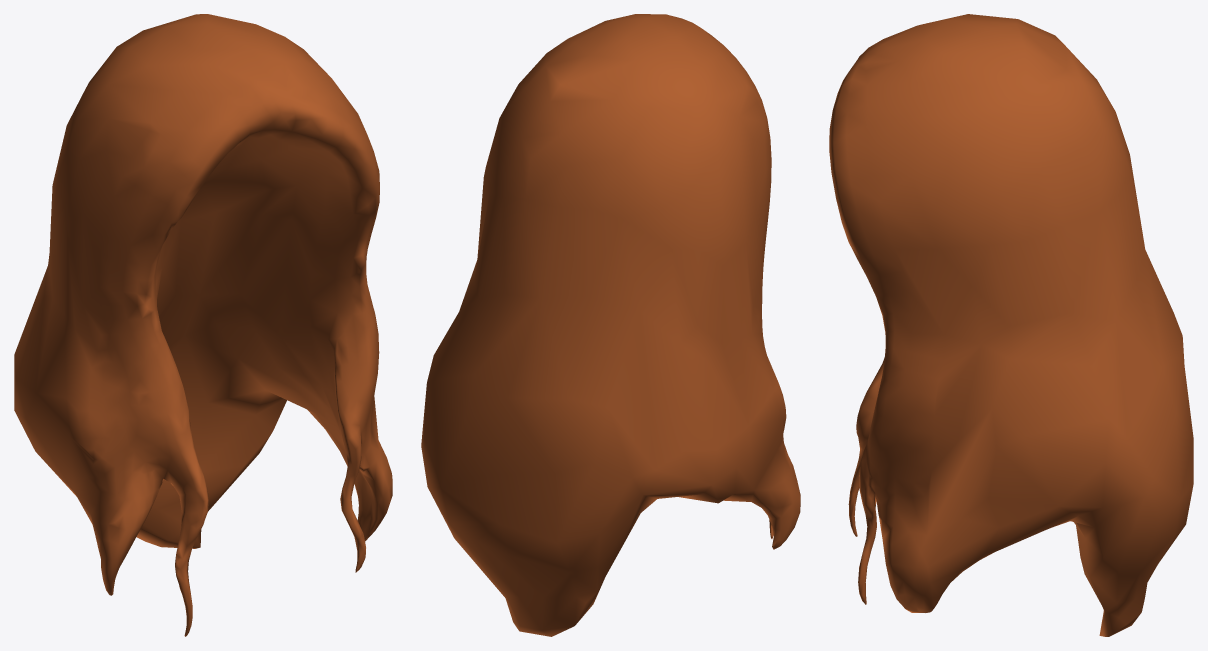
3 renders of one model, left to right at view 1: azimuth 30°, elevation 25°; view 2: azimuth 150°, elevation 25°; view 3: azimuth 270°, elevation 25°, orthographic. The views are drawn at different scales.
Visible parts, largest first — view 1: Wolf3D_Hair.126; view 2: Wolf3D_Hair.126; view 3: Wolf3D_Hair.126.
Boxes of the visible parts, x1,y1,x2,y2 form: Wolf3D_Hair.126: (14,14,392,636); Wolf3D_Hair.126: (421,14,800,636); Wolf3D_Hair.126: (829,14,1193,636).
Size of the model in its own units: 0.2409 by 0.4388 by 0.248.
Materials: 1 (1 with a texture image).
